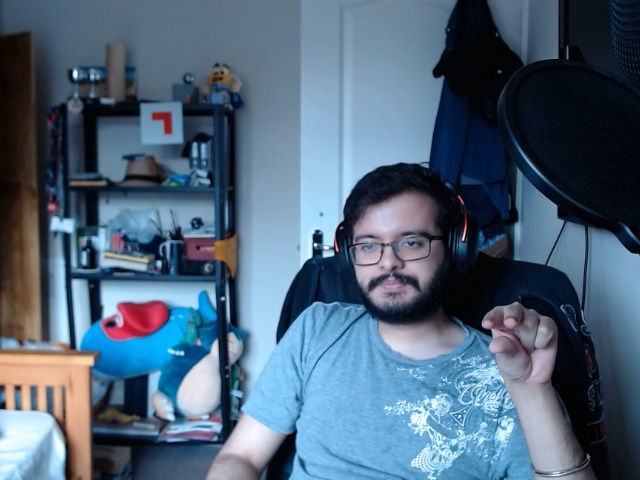No: (473, 289, 574, 391)
